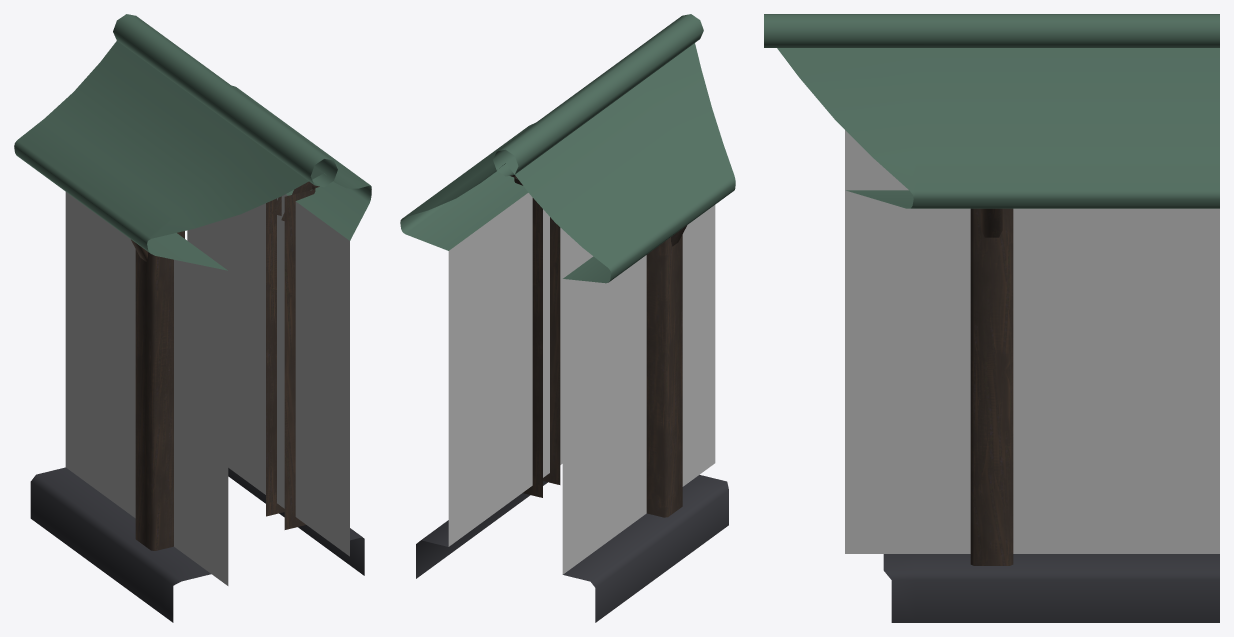
Rendered from Wall_Half.fbx.
3 renders of one model, left to right at view 1: azimuth 30°, elevation 25°; view 2: azimuth 150°, elevation 25°; view 3: azimuth 270°, elevation 25°, orthographic. The views are drawn at different scales.
Parts seen in each view (by area): view 1: Wall_Straight.005; view 2: Wall_Straight.005; view 3: Wall_Straight.005.
Part boxes in pixels (x1,y1,x2,y2): Wall_Straight.005: [14, 14, 371, 622]; Wall_Straight.005: [400, 14, 735, 622]; Wall_Straight.005: [764, 14, 1219, 622].
Size of the model in its own units: 1.31 by 2.69 by 2.
